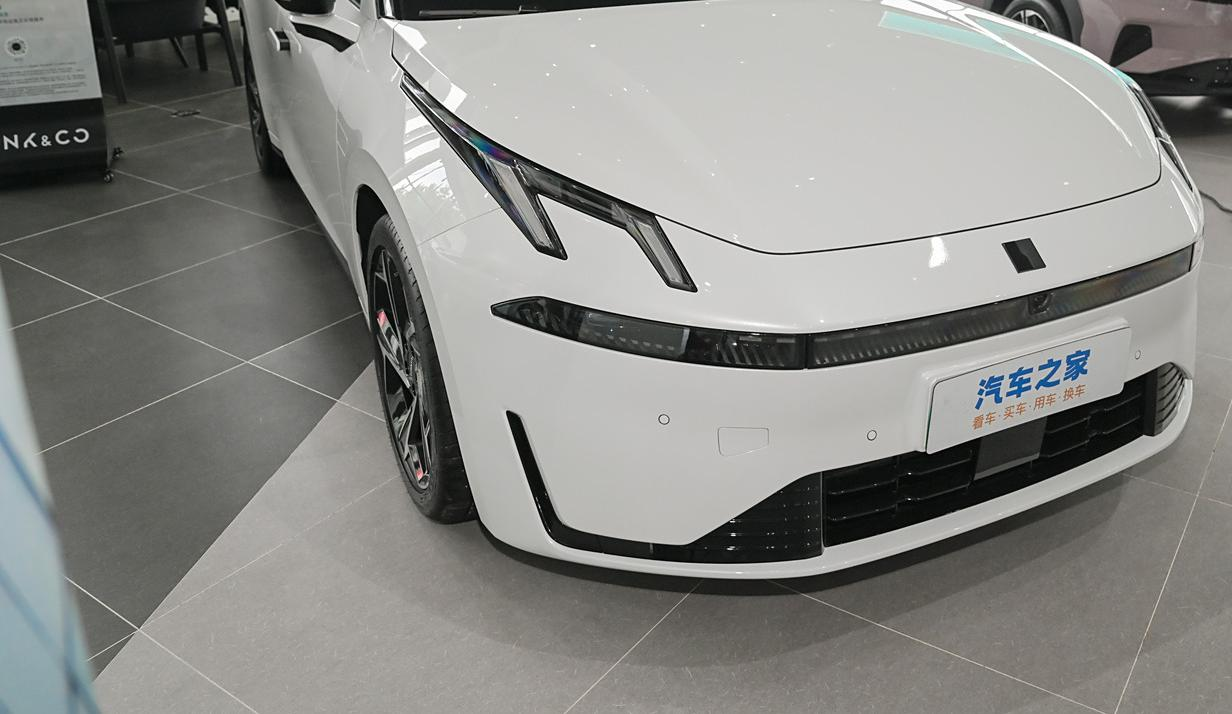LINK&CO: (1001, 238, 1046, 274)
